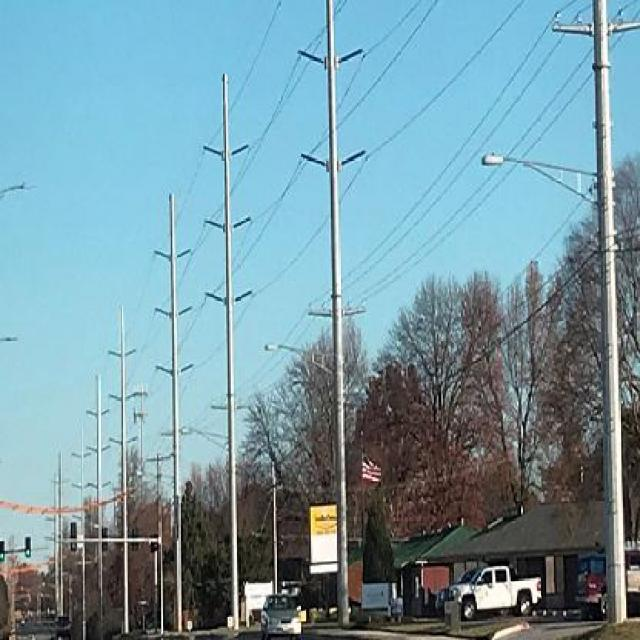pole: (298, 7, 380, 616)
